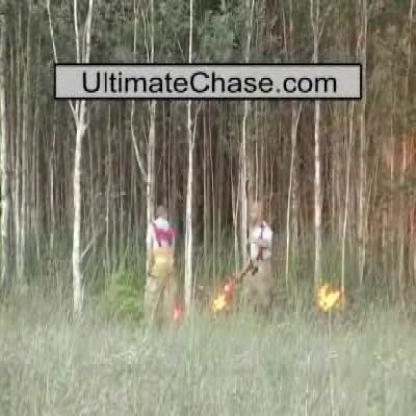fire: (207, 272, 235, 324), (311, 278, 344, 314), (170, 299, 183, 321)
other: (147, 250, 168, 268)
